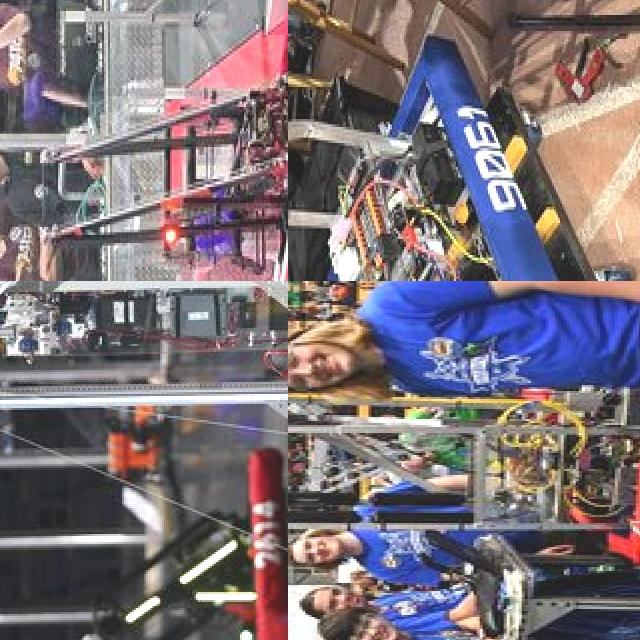FRC-Robots: (0, 281, 288, 627), (288, 324, 640, 570), (288, 45, 592, 281), (37, 0, 288, 281), (57, 458, 288, 640)
